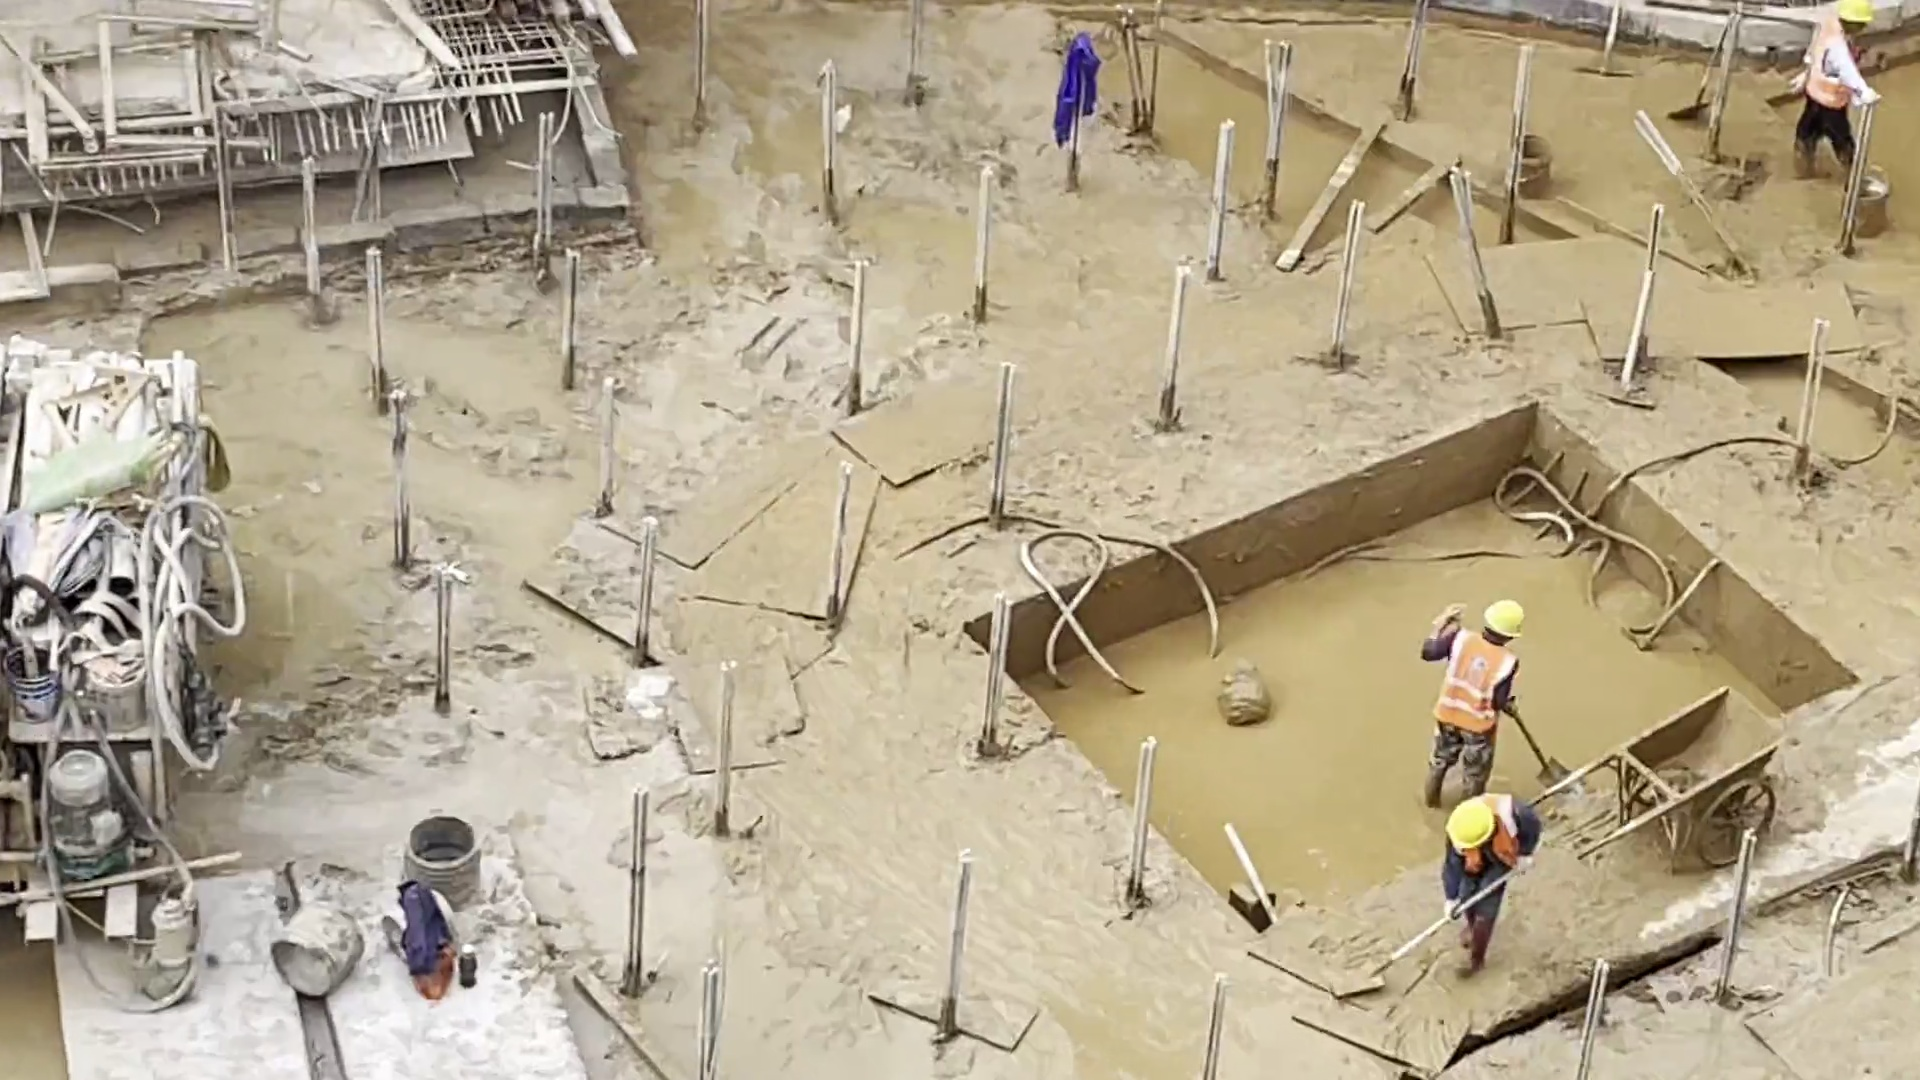helmet: (1443, 801, 1495, 852), (1486, 594, 1523, 643), (1838, 1, 1875, 25)
person: (1408, 596, 1524, 803), (1426, 788, 1540, 986), (1792, 1, 1880, 186)
vest: (1429, 643, 1506, 737), (1467, 802, 1524, 878), (1808, 19, 1856, 104)
